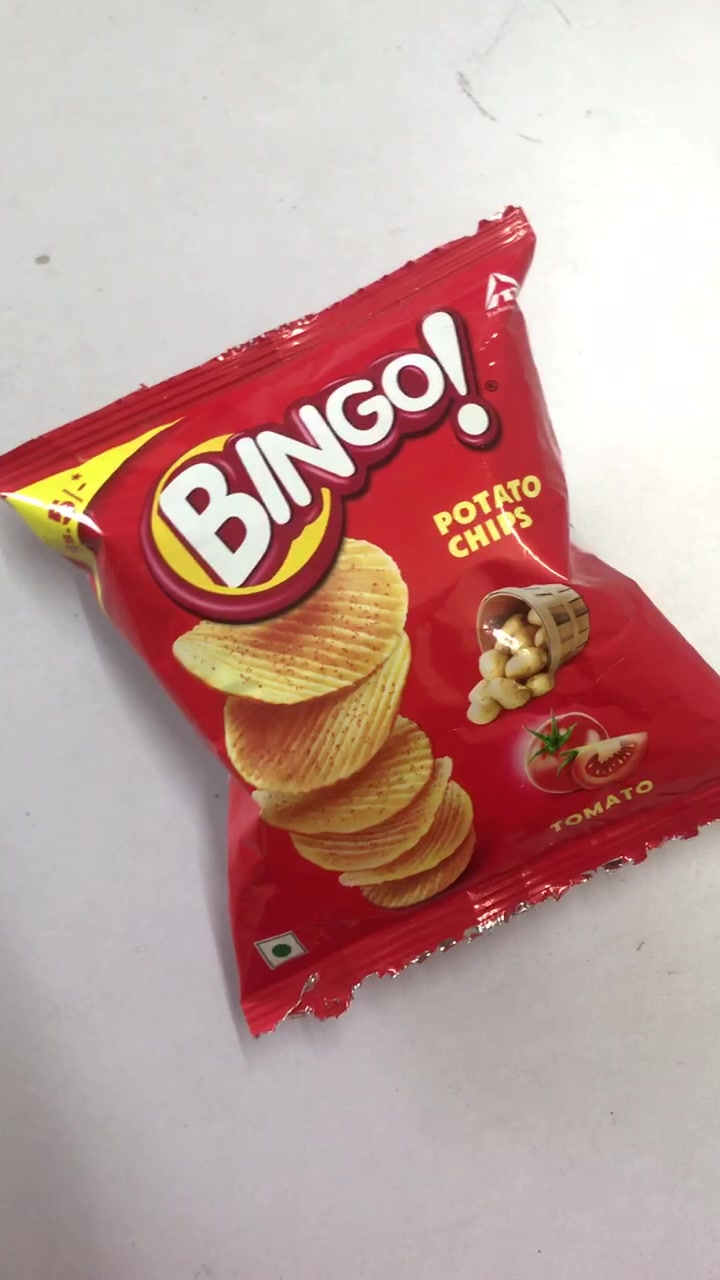Bingo: (10, 230, 706, 1006)
